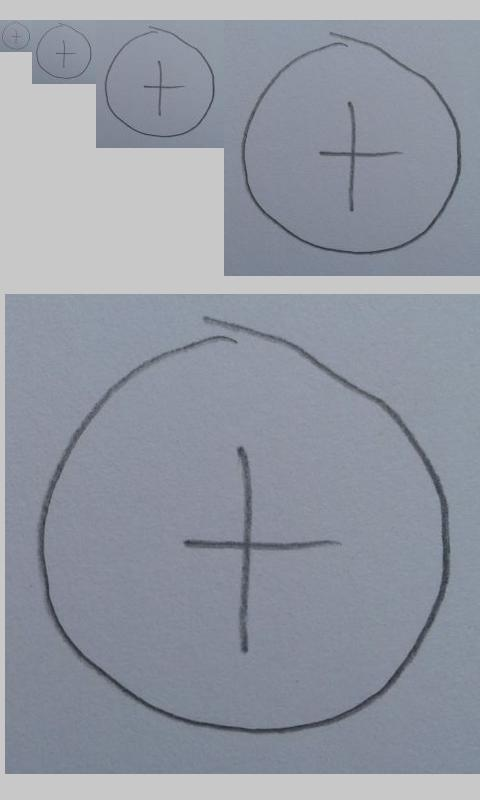button: (35, 314, 452, 735), (241, 32, 463, 255), (104, 25, 215, 138), (36, 23, 92, 79), (2, 22, 31, 50)
